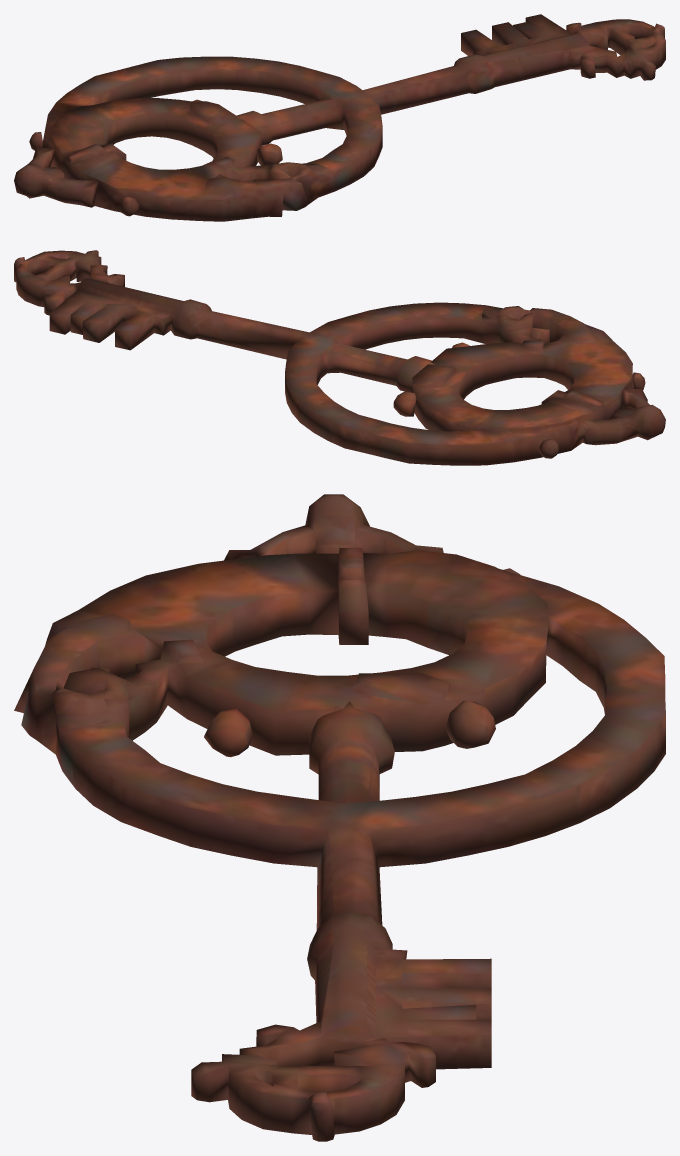
The model's file is skeleton_key.glb.
3 renders of one model, top to bottom at view 1: azimuth 30°, elevation 25°; view 2: azimuth 150°, elevation 25°; view 3: azimuth 270°, elevation 25°, orthographic. The views are drawn at different scales.
Bounding box in the file's own units: 0.9487 × 0.0454 × 0.4346.
1 material, 1 textured.
